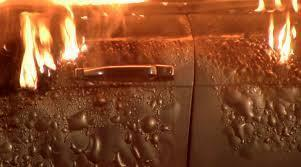fire: (10, 2, 92, 94), (236, 2, 295, 72)
